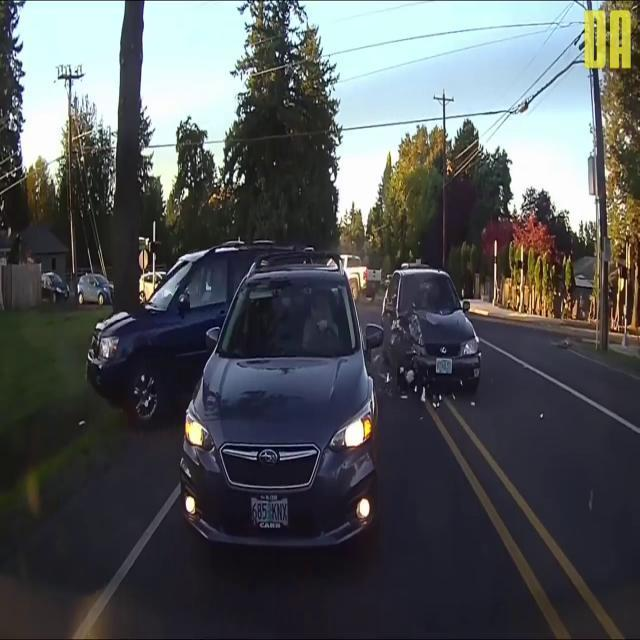accident: (380, 269, 482, 396)
non-accident: (89, 246, 377, 552)
